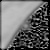node: (22, 22, 28, 29)
